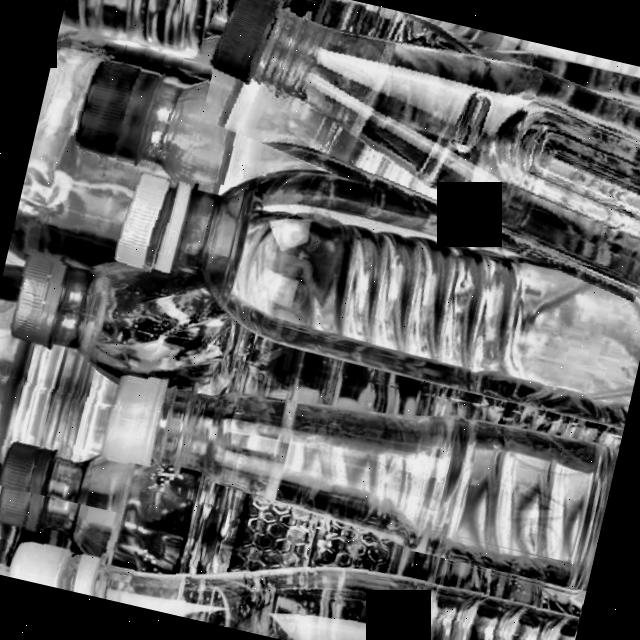bottle: (164, 0, 640, 283), (0, 453, 586, 640), (9, 30, 211, 265), (0, 270, 165, 511)
